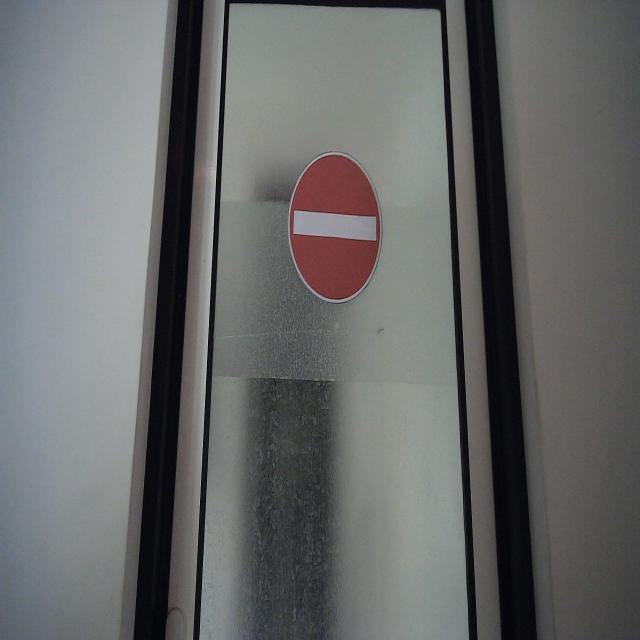no_entry: (287, 148, 385, 305)
